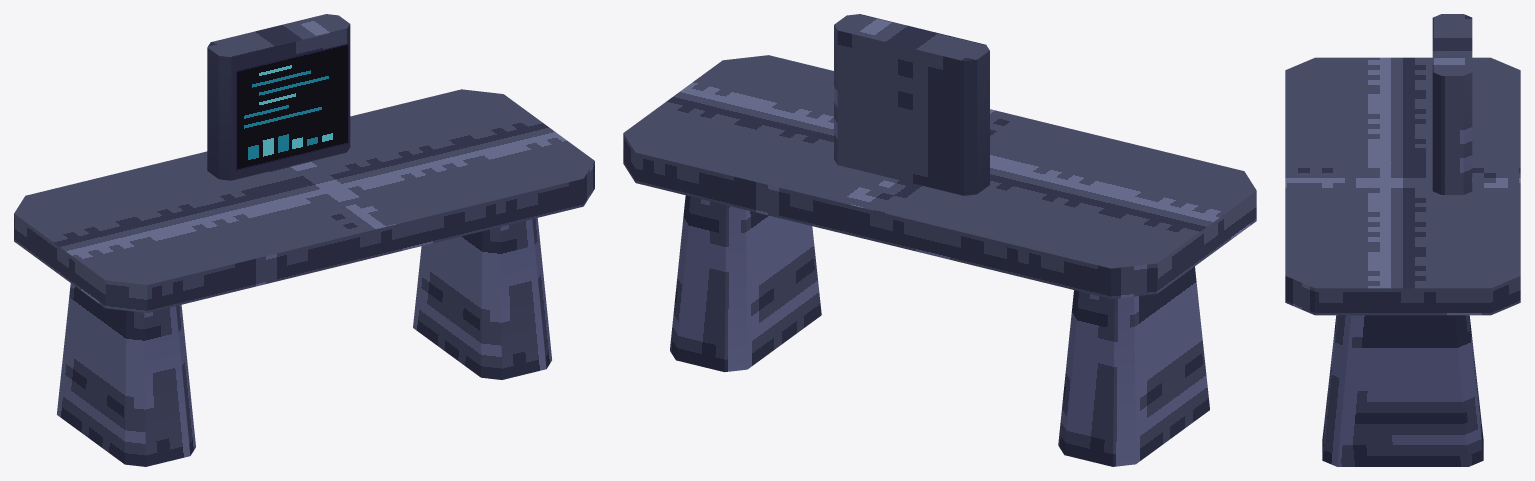
File: cyroom.desk__single.glb
3 renders of one model, left to right at view 1: azimuth 30°, elevation 25°; view 2: azimuth 150°, elevation 25°; view 3: azimuth 270°, elevation 25°, orthographic. The views are drawn at different scales.
Parts seen in each view (by area): view 1: kit_body, kit_card_details; view 2: kit_body; view 3: kit_body.
Part boxes in pixels (x1=…): kit_body: x1=14, y1=14, x2=594, y2=466; kit_card_details: x1=235, y1=43, x2=348, y2=170; kit_body: x1=623, y1=14, x2=1256, y2=466; kit_body: x1=1285, y1=14, x2=1520, y2=466.
Size of the model in its own units: 2.2 by 1.43 by 0.95.
4 materials, 4 textured.
